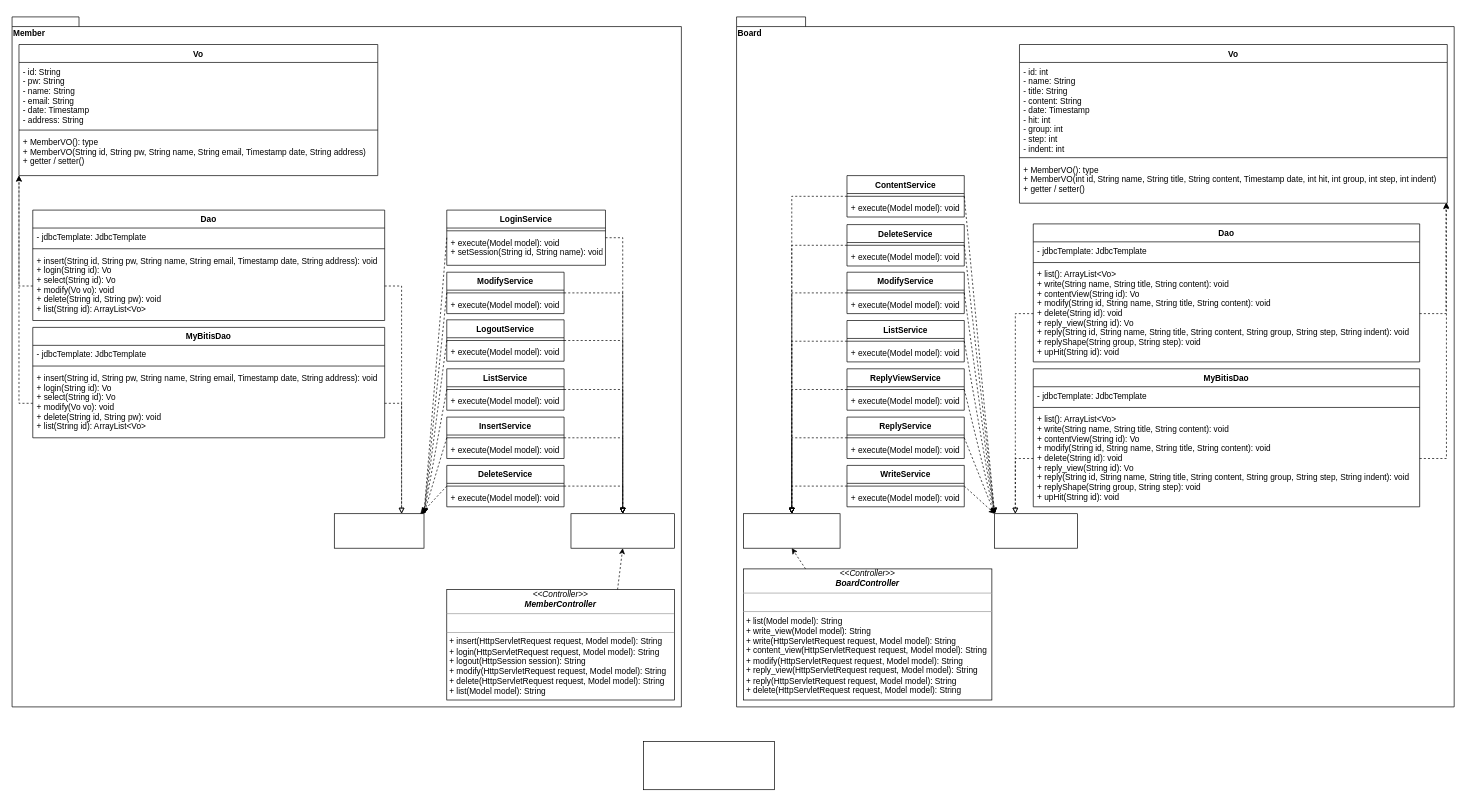
Some shapes in this 1466 by 802 pixel diagram are drawn without their labels. Each missing label, with the centre of its shape:
<<Controller>> HomeController + home(): String: point (709, 765)
«interface» InterfaceBoardDao: point (1035, 530)
«interface» InterfaceBoardService: point (791, 530)
«interface» InterfaceMemberDao: point (379, 530)
«interface» InterfaceMemberService: point (622, 530)
